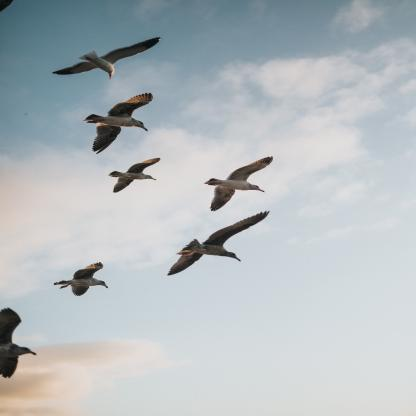bird: (167, 210, 270, 276), (53, 36, 161, 80), (85, 92, 154, 154), (204, 156, 273, 212), (0, 307, 38, 378), (54, 262, 109, 297), (109, 158, 161, 193)
